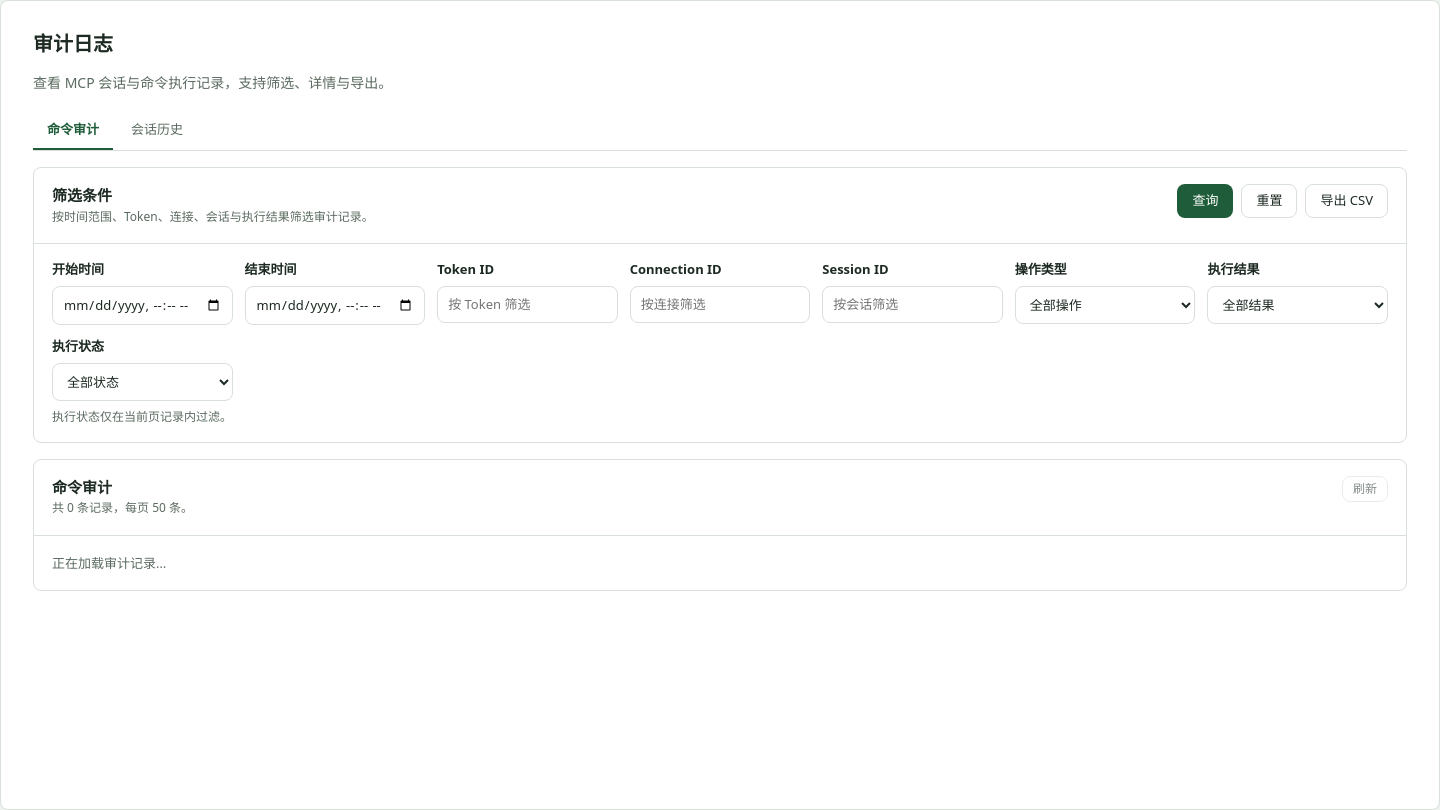
Test: AuditPage 导出与错误 › 导出失败时用统一错误提示
The width and height of the screenshot is (1440, 810).
Click the button "导出 CSV" at {"x": 1347, "y": 201}, box left=1306, top=184, right=1388, bottom=218
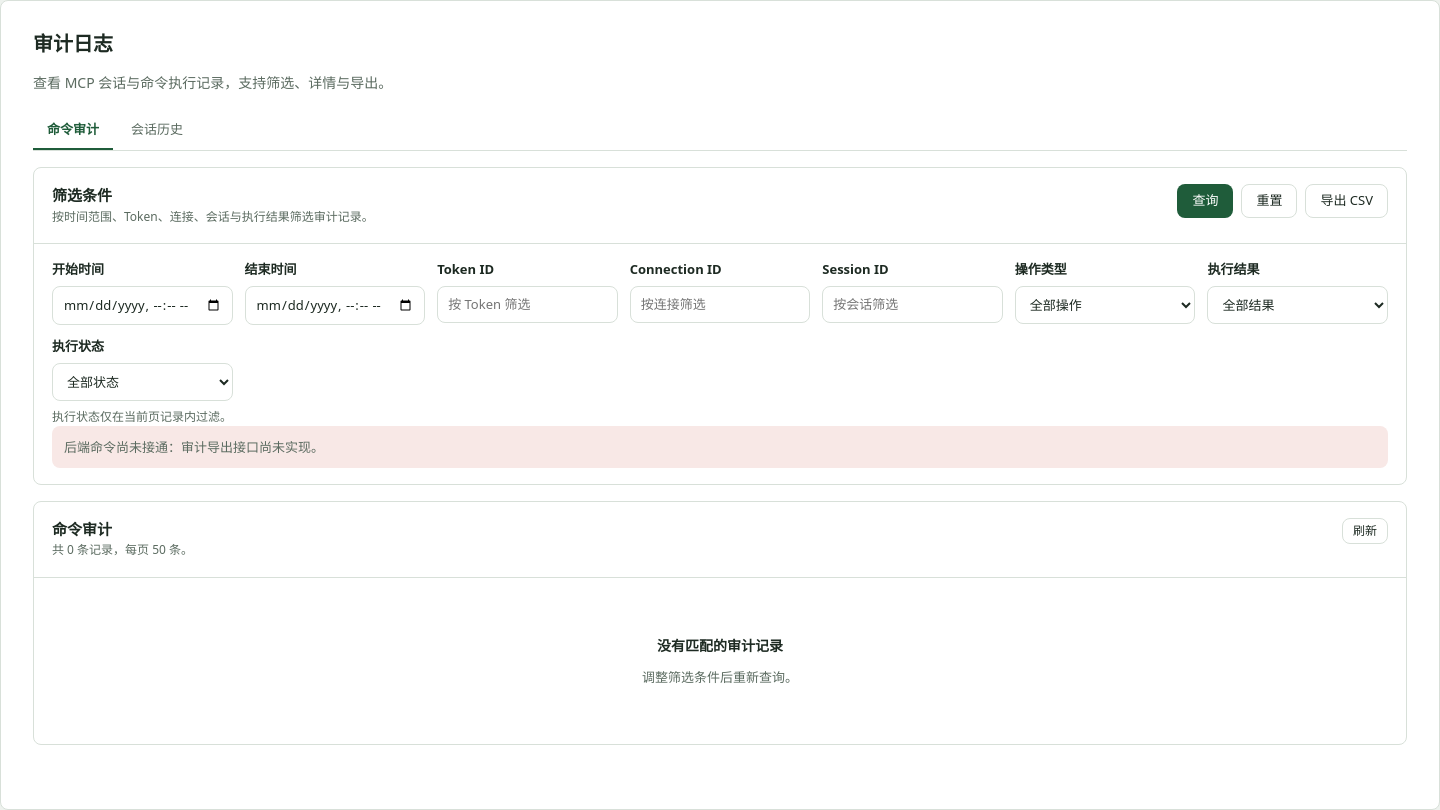
Result: the message shows "后端命令尚未接通" at left=64, top=438, right=324, bottom=456
Result: the message shows "审计导出" at left=64, top=438, right=324, bottom=456
